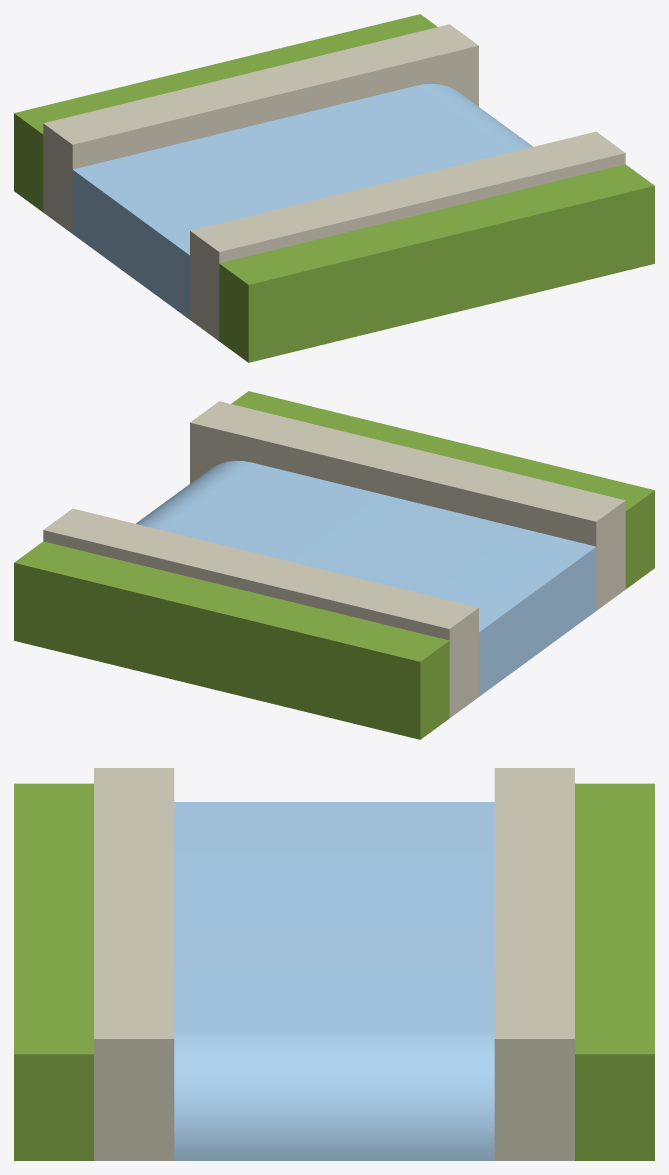
The model's file is roadTile_253.obj.
3 views of the same model, one above another, from view 1: azimuth 30°, elevation 25°; view 2: azimuth 150°, elevation 25°; view 3: azimuth 270°, elevation 25° (orthographic). The views are drawn at different scales.
Parts seen in each view (by area): view 1: Mesh1_Group1_Model.136; view 2: Mesh1_Group1_Model.136; view 3: Mesh1_Group1_Model.136.
Part boxes in pixels (x1,y1,x2,y2): Mesh1_Group1_Model.136: (14, 14, 654, 362); Mesh1_Group1_Model.136: (14, 391, 654, 739); Mesh1_Group1_Model.136: (14, 768, 654, 1160).
Bounding box in the file's own units: 3 × 0.63 × 3.
